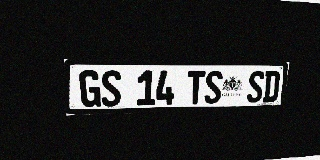1: (137, 70, 156, 106)
4: (156, 70, 175, 105)
D: (262, 71, 281, 102)
G: (79, 70, 101, 107)
S: (101, 70, 121, 107), (204, 71, 223, 104), (246, 71, 265, 103)
T: (186, 70, 205, 104)
